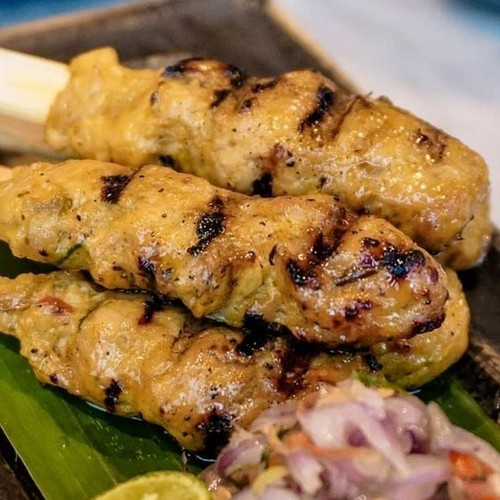sate languan: (15, 171, 434, 414), (54, 41, 493, 253)
